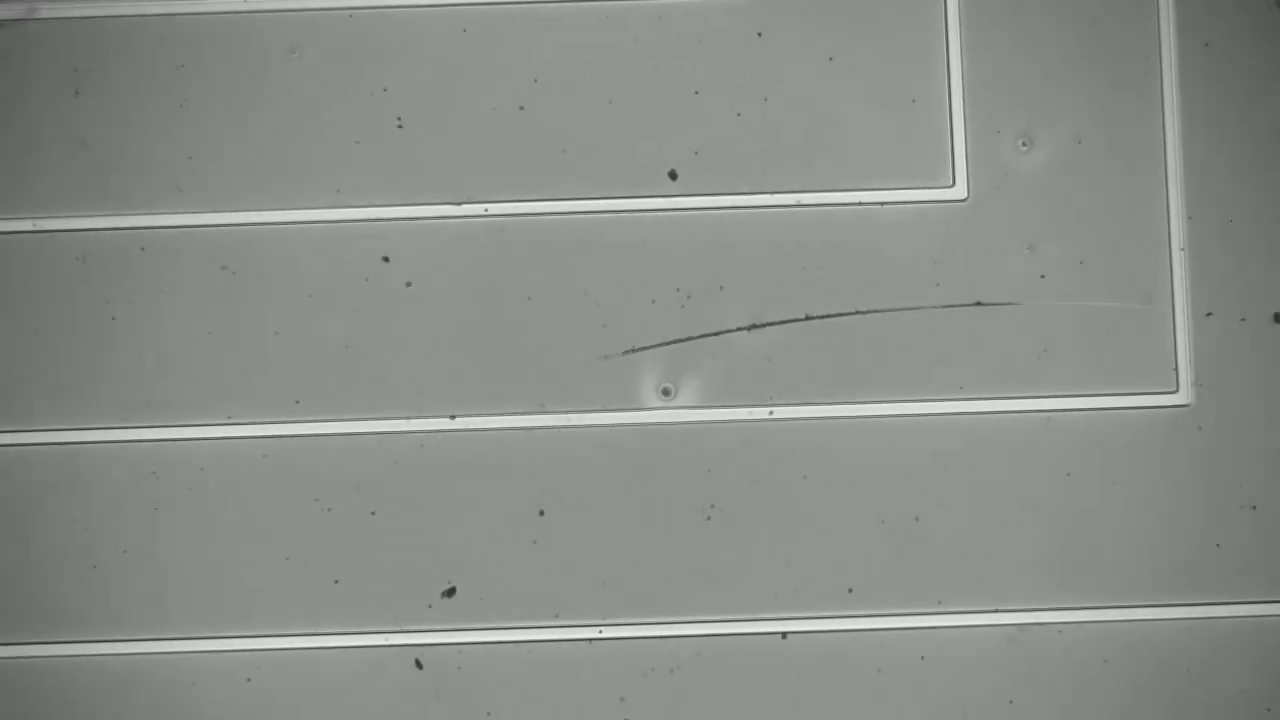scratch: (579, 285, 1025, 365)
